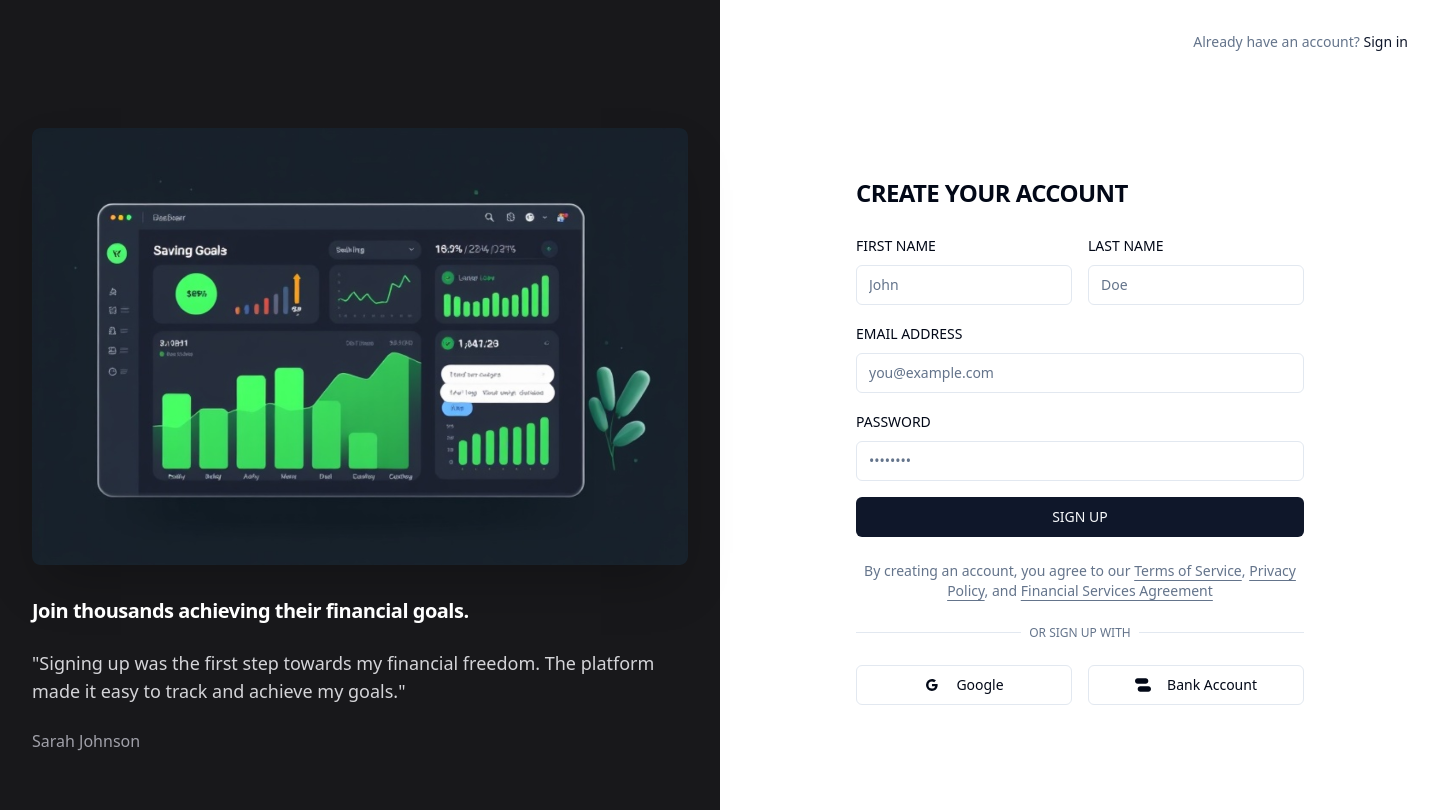
Test case: Register › should show validation errors for empty form submission
Click the button "SIGN UP": {"x": 1080, "y": 517} [856,497,1304,537]
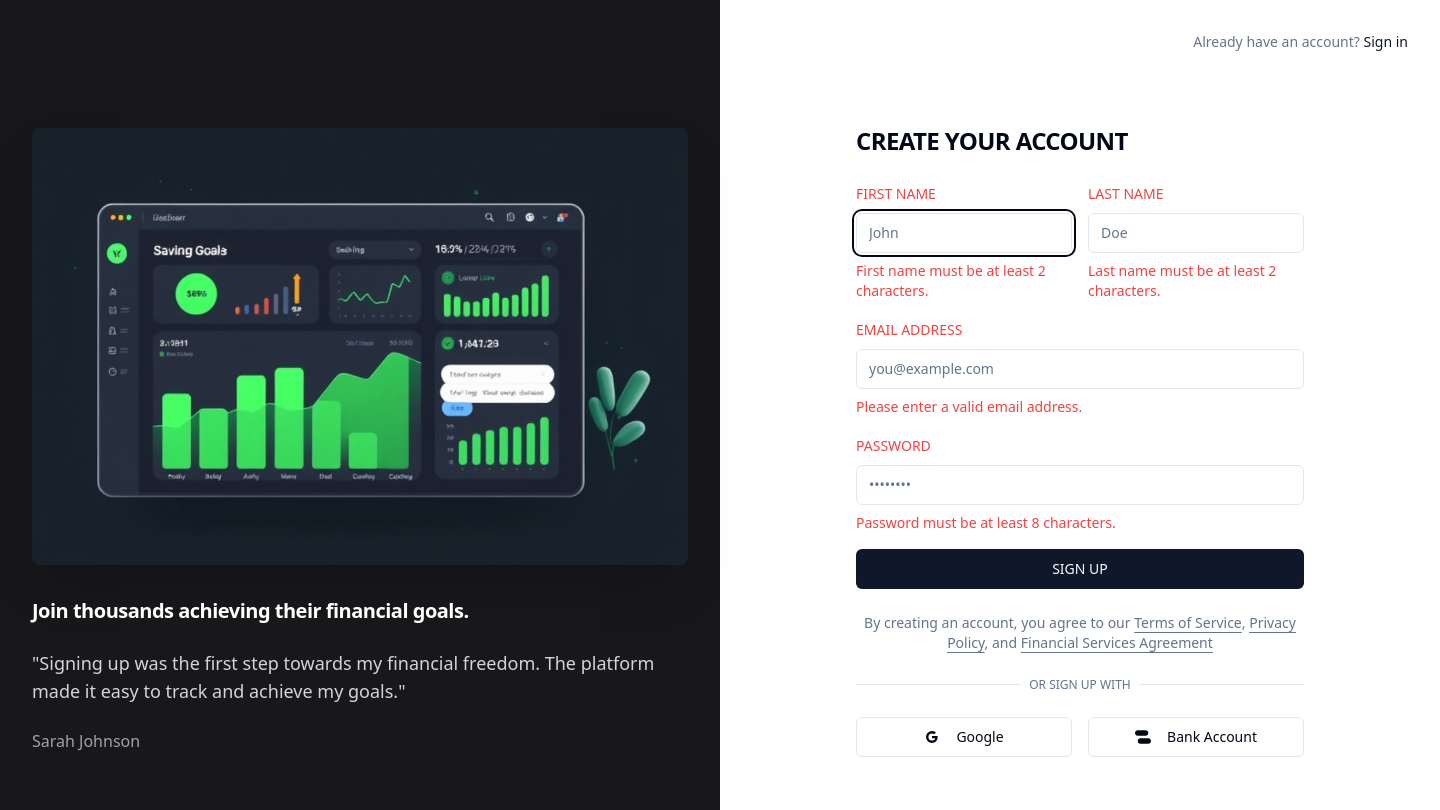
Check: the text "First name must be at least 2 characters." is shown, box [856,261,1072,301]
Check: the text "Last name must be at least 2 characters." is shown, box [1088,261,1304,301]
Check: the text "Please enter a valid email address." is shown, box [856,397,1082,416]
